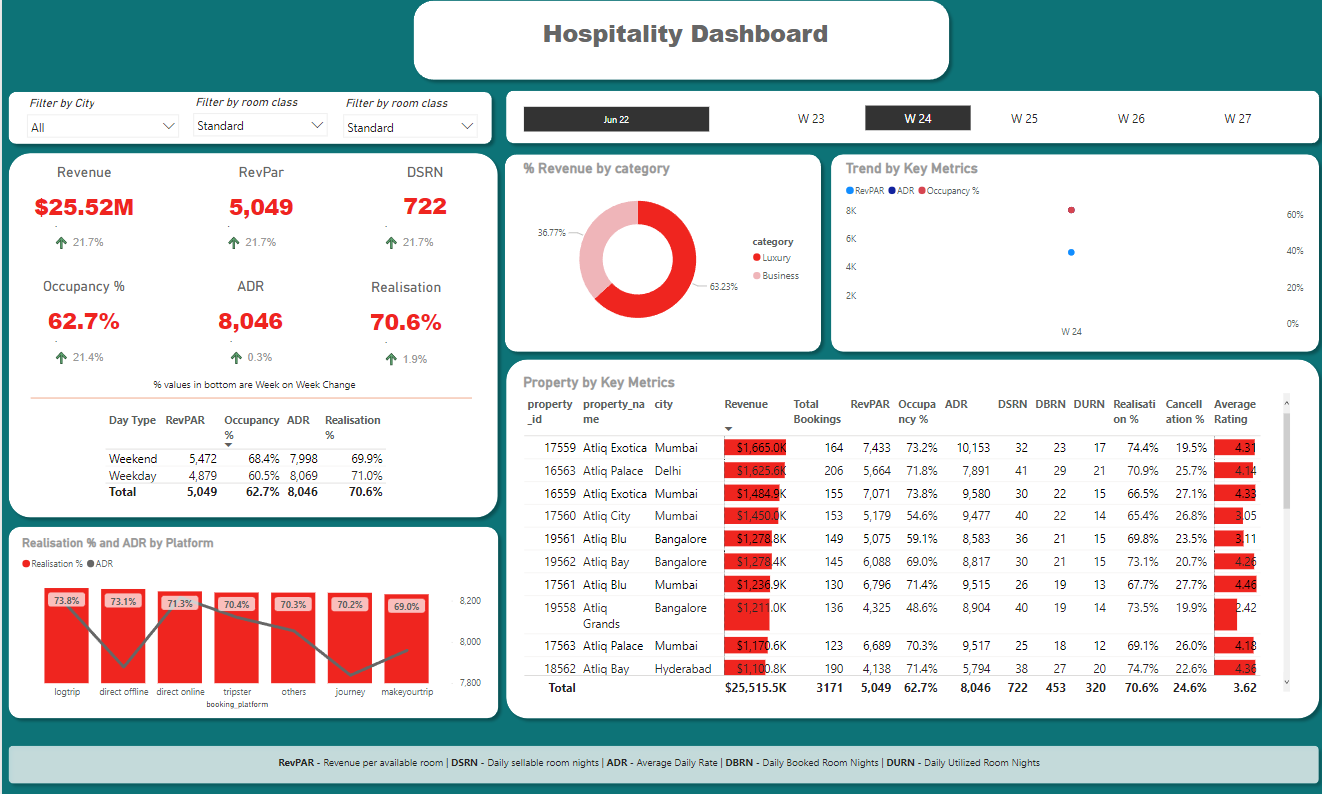

This screenshot's page, from the dashboard's own definition file:
{"tool":"powerbi","page":{"name":"Home","canvas":[1800,1100],"ordinal":0},"visuals":[{"type":"shape","box":[0.2,123.6,675.2,88.8],"z":0},{"type":"shape","box":[676,122.7,1124,89.3],"z":1000},{"type":"shape","box":[676,488,1124,506.7],"z":2000},{"type":"shape","box":[675.1,208.6,447.6,286.1],"z":3000},{"type":"shape","box":[1118.6,208.6,681.7,286.1],"z":4000},{"type":"shape","box":[0.2,207,683.4,513.9],"z":5000},{"type":"slicer","fields":{"Values":["dim_rooms.room_class"]},"box":[250.7,133.3,202.7,72],"z":6000},{"type":"slicer","fields":{"Values":["dim_hotels.city"]},"box":[24,134.7,226.7,76],"z":7000},{"type":"slicer","fields":{"Values":["dim_date.mmm yy"]},"box":[683.6,145.5,302.1,47.8],"z":8000},{"type":"card","title":"Revenue","fields":{"Values":["key_measures.Revenue"]},"box":[30.6,231.2,162,94.6],"z":8000,"group":"g2"},{"type":"card","title":"RevPar","fields":{"Values":["key_measures.Rev Par"]},"box":[268.6,231.2,167.8,94.6],"z":9000,"group":"g2"},{"type":"card","title":"Occupancy %","fields":{"Values":["key_measures.Occupancy %"]},"box":[14.7,386.3,192,96],"z":9000,"group":"g1"},{"type":"tableEx","title":"Property by Key Metrics","fields":{"Values":["dim_hotels.property_id","dim_hotels.property_name","dim_hotels.city","key_measures.Revenue","key_measures.Total Bookings","key_measures.Rev Par","key_measures.Occupancy %","key_measures.ADR","key_measures.DSRN","key_measures.DBRN","key_measures.DURN","key_measures.Realisation %"]},"box":[704,517.3,1053.3,445.3],"z":9000},{"type":"lineChart","title":"Trend by Key Metrics","fields":{"Category":["dim_date.mmm yy.Variation.Date Hierarchy.Month","dim_date.week no"],"Y2":["key_measures.Occupancy %"],"Y":["key_measures.Rev Par","key_measures.ADR"]},"box":[1142.7,225.3,633.3,252],"z":10000},{"type":"card","title":"DSRN","fields":{"Values":["key_measures.DSRN"]},"box":[476.6,231.6,198.3,94.8],"z":11000,"group":"g2"},{"type":"tableEx","fields":{"Values":["dim_date.day type","key_measures.Rev Par","key_measures.Occupancy %","key_measures.ADR","key_measures.Realisation %"]},"box":[135.1,564.9,437.2,129.8],"z":11000},{"type":"card","title":"ADR","fields":{"Values":["key_measures.ADR"]},"box":[241.4,385.9,193.3,96],"z":12000,"group":"g1"},{"type":"shape","box":[0,716,684,278.7],"z":12000},{"type":"card","title":"Realisation","fields":{"Values":["key_measures.Realisation %"]},"box":[452.5,386.8,194.7,96],"z":13000,"group":"g1"},{"type":"lineStackedColumnComboChart","title":"Realisation % and ADR by Platform","fields":{"Category":["fact_bookings.booking_platform"],"Y":["key_measures.Realisation %"],"Y2":["key_measures.ADR"]},"box":[21.3,736,634.7,241.3],"z":13000},{"type":"slicer","fields":{"Values":["dim_date.week no"]},"box":[1002.7,145.3,773.3,48],"z":14000},{"type":"shape","box":[0,1013.3,1800,69.3],"z":15000},{"type":"group","id":"g1","title":"Group 1","box":[14.7,385.9,632.4,96.9],"z":16000},{"type":"slicer","fields":{"Values":["dim_rooms.room_class"]},"box":[453.3,134.7,202.7,72],"z":17000},{"type":"group","id":"g2","title":"Group 2","box":[30.6,231.2,644.4,95.2],"z":18000},{"type":"tableEx","fields":{"Values":["key_measures.Revpar WoW change %"]},"box":[296,297.3,92,58.7],"z":19000},{"type":"textbox","box":[345,1029.6,1093.6,39],"z":20000},{"type":"shape","box":[38.7,542.7,600,14.7],"z":21000},{"type":"tableEx","fields":{"Values":["key_measures.Revpar WoW change %"]},"box":[61.3,297.3,92,58.7],"z":22000},{"type":"tableEx","fields":{"Values":["key_measures.Revpar WoW change %"]},"box":[509.3,297.3,92,58.7],"z":23000},{"type":"donutChart","title":"% Revenue by category","fields":{"Category":["dim_hotels.category"],"Y":["key_measures.Revenue"]},"box":[704,225.3,396,248],"z":24000},{"type":"group","id":"g3","title":"Group 3","box":[61.3,454.3,540,60],"z":25000},{"type":"textbox","box":[200,517.3,308,33.3],"z":26000},{"type":"shape","box":[550,0,746.3,125.9],"z":27000},{"type":"tableEx","fields":{"Values":["key_measures.Occupancy WoW change %"]},"box":[61.3,454.3,92,58.7],"z":27000,"group":"g3"},{"type":"textbox","box":[563,25.9,733.3,74.1],"z":28000},{"type":"tableEx","fields":{"Values":["key_measures.ADR WoW change %"]},"box":[298.6,454.3,92,58.7],"z":28000,"group":"g3"},{"type":"tableEx","fields":{"Values":["key_measures.Realisation WoW change %"]},"box":[509.3,455.6,92,58.7],"z":29000,"group":"g3"}]}

Visuals, with their boxes in screenshot pixels (x1, y1, x2, y2), scaled from the page's 1800x1100 canvas onto the 1322x794 screenshot:
shape: select_region(0, 89, 496, 153)
shape: select_region(496, 89, 1321, 153)
shape: select_region(496, 352, 1321, 718)
shape: select_region(496, 151, 825, 357)
shape: select_region(822, 151, 1321, 357)
shape: select_region(0, 149, 502, 520)
slicer - dim_rooms.room_class: select_region(184, 96, 333, 148)
slicer - dim_hotels.city: select_region(18, 97, 184, 152)
slicer - dim_date.mmm yy: select_region(502, 105, 724, 140)
"Revenue" card: select_region(22, 167, 141, 235)
"RevPar" card: select_region(197, 167, 321, 235)
"Occupancy %" card: select_region(11, 279, 152, 348)
"Property by Key Metrics" tableEx: select_region(517, 373, 1291, 695)
"Trend by Key Metrics" lineChart: select_region(839, 163, 1304, 345)
"DSRN" card: select_region(350, 167, 496, 236)
tableEx - dim_date.day type x key_measures.Rev Par: select_region(99, 408, 420, 501)
"ADR" card: select_region(177, 279, 319, 348)
shape: select_region(0, 517, 502, 718)
"Realisation" card: select_region(332, 279, 475, 348)
"Realisation % and ADR by Platform" lineStackedColumnComboChart: select_region(16, 531, 482, 705)
slicer - dim_date.week no: select_region(736, 105, 1304, 140)
shape: select_region(0, 731, 1321, 781)
"Group 1" group: select_region(11, 279, 475, 348)
slicer - dim_rooms.room_class: select_region(333, 97, 482, 149)
"Group 2" group: select_region(22, 167, 496, 236)
tableEx - key_measures.Revpar WoW change %: select_region(217, 215, 285, 257)
textbox: select_region(253, 743, 1057, 771)
shape: select_region(28, 392, 469, 402)
tableEx - key_measures.Revpar WoW change %: select_region(45, 215, 113, 257)
tableEx - key_measures.Revpar WoW change %: select_region(374, 215, 442, 257)
"% Revenue by category" donutChart: select_region(517, 163, 808, 342)
"Group 3" group: select_region(45, 328, 442, 371)
textbox: select_region(147, 373, 373, 397)
shape: select_region(404, 0, 952, 91)
tableEx - key_measures.Occupancy WoW change %: select_region(45, 328, 113, 370)
textbox: select_region(413, 19, 952, 72)
tableEx - key_measures.ADR WoW change %: select_region(219, 328, 287, 370)
tableEx - key_measures.Realisation WoW change %: select_region(374, 329, 442, 371)
